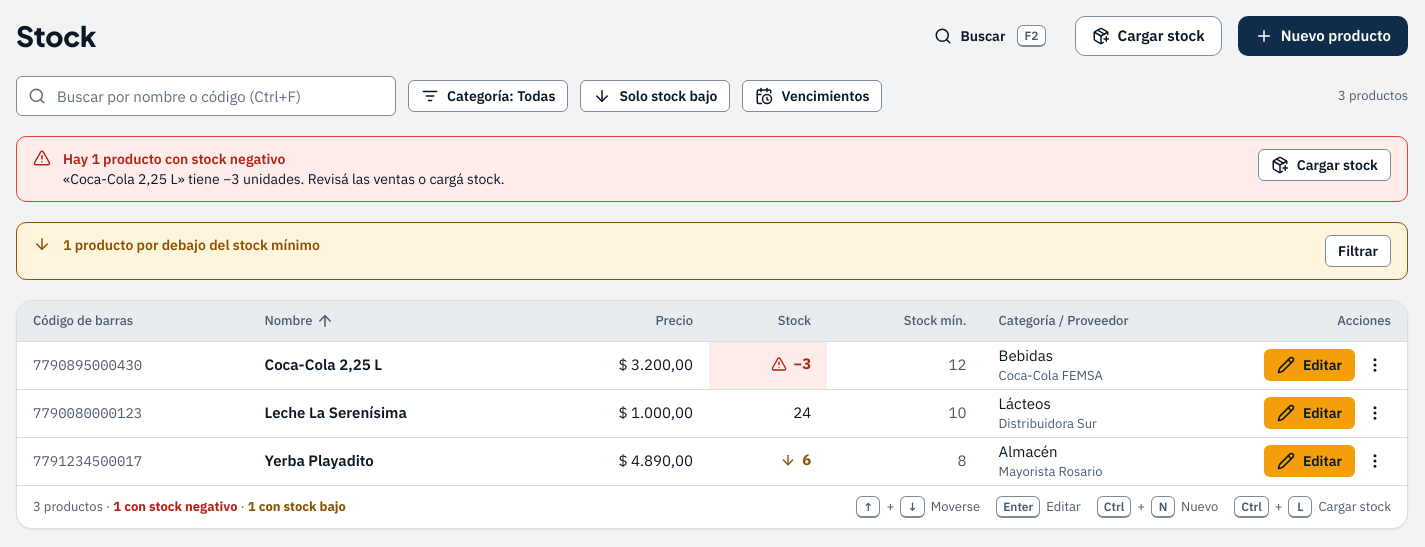
Test case: StockProducts — alertas de stock › stock bajo: celda is-low y alerta warning; "Filtrar" activa "Solo stock bajo"
The width and height of the screenshot is (1425, 547).
Click the button "Filtrar": [1358, 251] box [1325,235,1391,267]
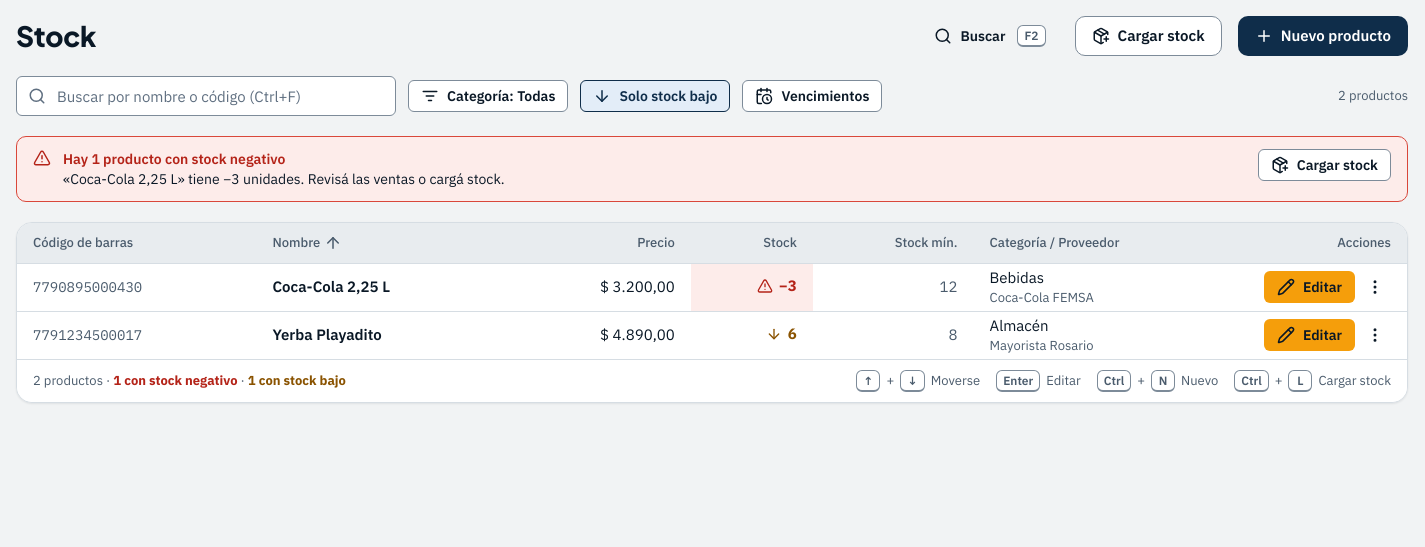
Check: the text "Yerba Playadito" is shown, box [256,311,510,359]
Check: the text "Leche La Serenísima" is gone
Check: the text "1 producto por debajo del stock mínimo" is gone
